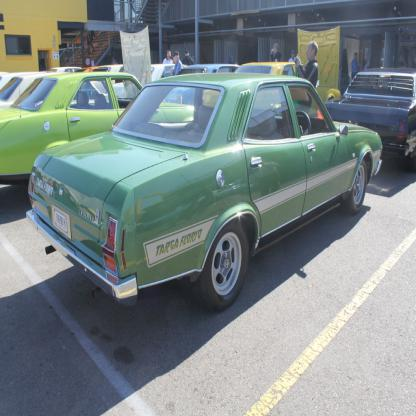Car: (0, 70, 416, 305)
